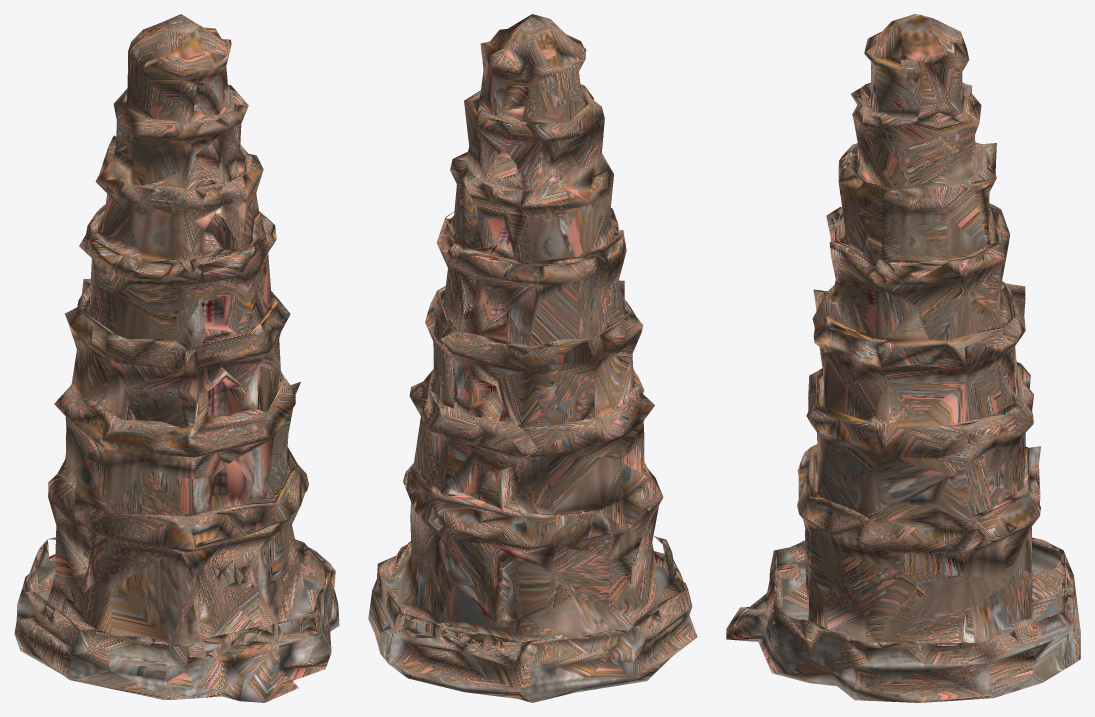
Rendered from thap-phuoc-duyen.glb.
The picture shows the model from 3 angles, left to right: view 1: azimuth 30°, elevation 25°; view 2: azimuth 150°, elevation 25°; view 3: azimuth 270°, elevation 25°; orthographic projection.
Size of the model in its own units: 0.443 by 0.9462 by 0.4872.
Materials: 1 (1 with a texture image).
